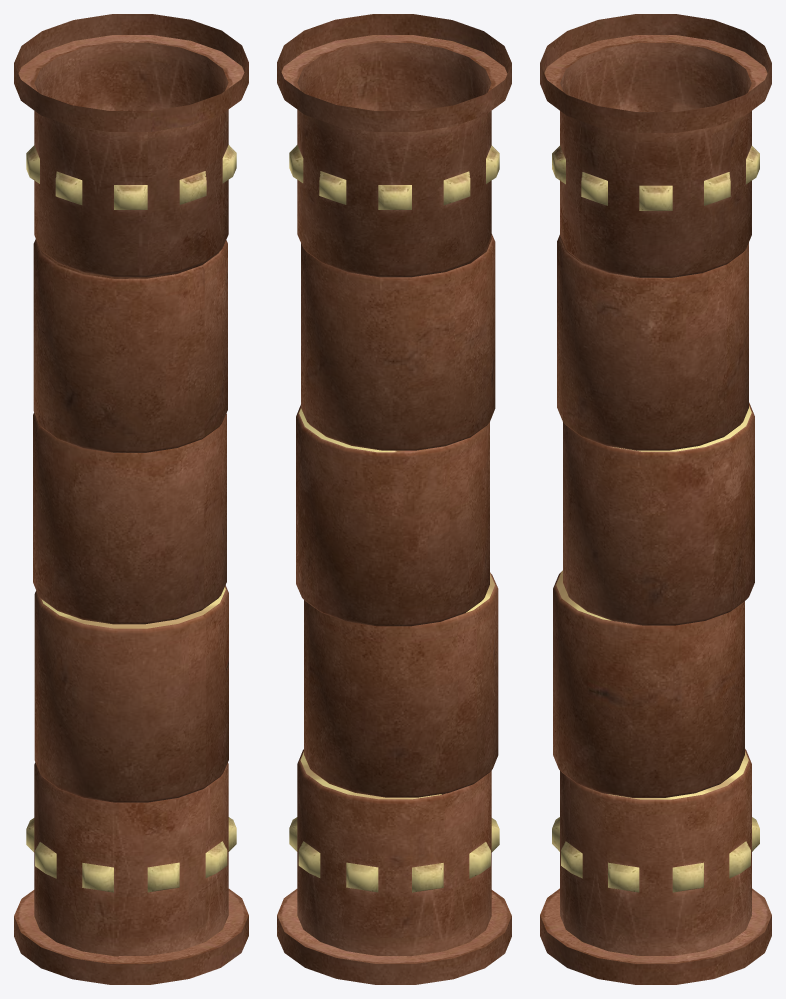
File: new_kolonna_02.glb
The picture shows the model from 3 angles, left to right: view 1: azimuth 30°, elevation 25°; view 2: azimuth 150°, elevation 25°; view 3: azimuth 270°, elevation 25°; orthographic projection.
Parts seen in each view (by area): view 1: new_kolonna_02; view 2: new_kolonna_02; view 3: new_kolonna_02.
Part boxes in pixels (box(x1,y1,x2,y2)): new_kolonna_02: box(14, 14, 248, 984); new_kolonna_02: box(277, 14, 511, 984); new_kolonna_02: box(540, 14, 771, 984).
Size of the model in its own units: 0.6043 by 2.51 by 0.6043.
1 material, 1 textured.
